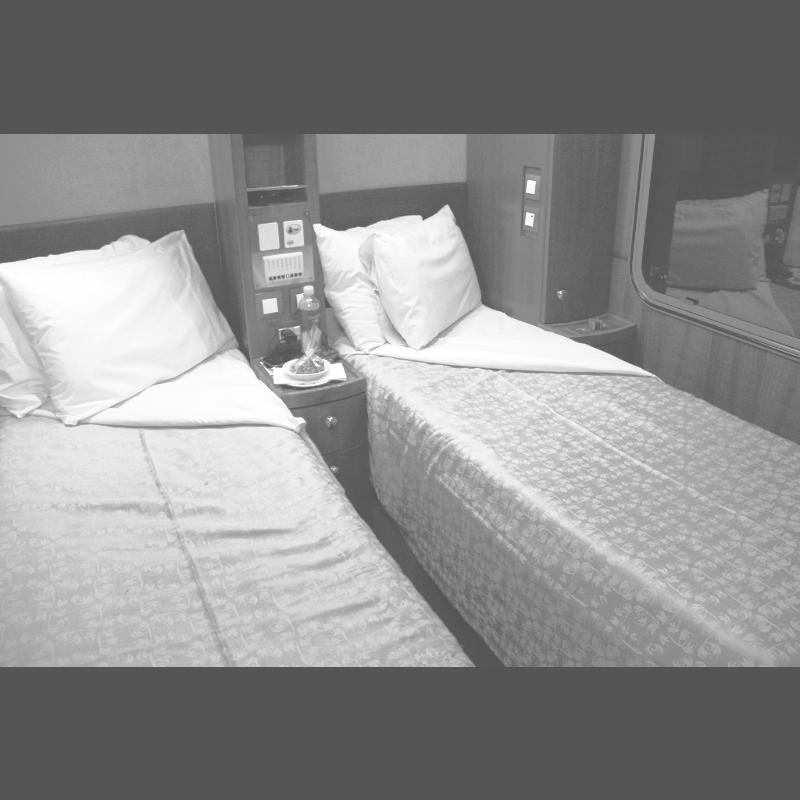pillow: (1, 226, 241, 430), (3, 233, 156, 419), (358, 201, 482, 351), (312, 210, 418, 356)
